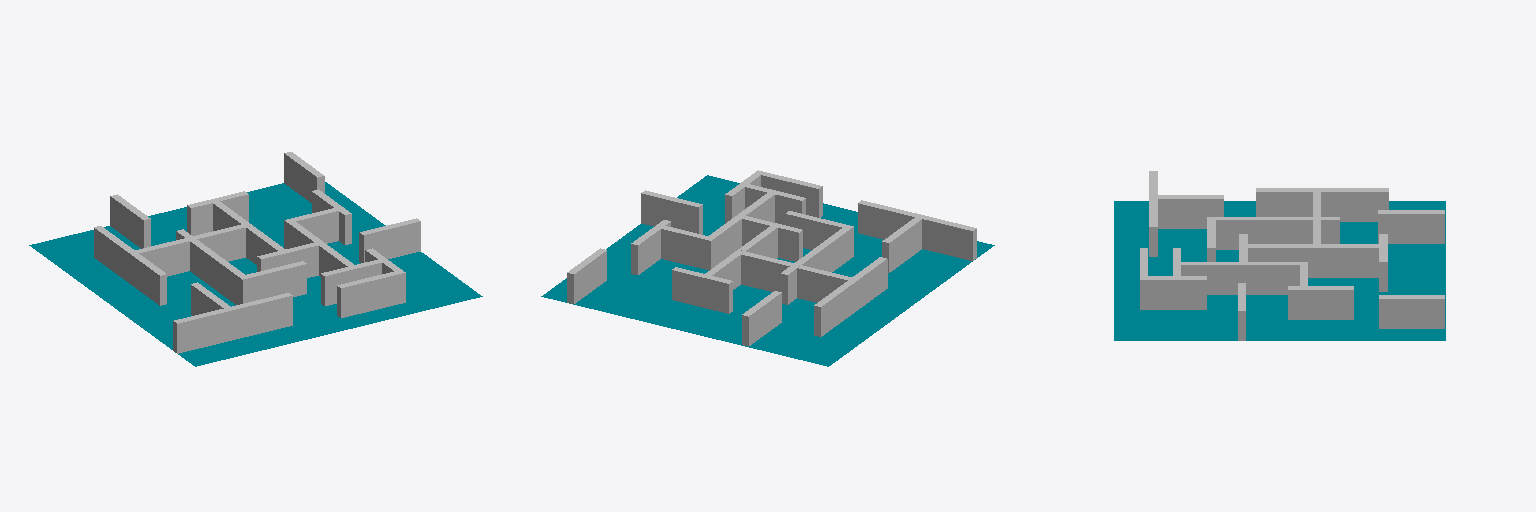
File: field0Col.obj
3 renders of one model, left to right at view 1: azimuth 30°, elevation 25°; view 2: azimuth 150°, elevation 25°; view 3: azimuth 270°, elevation 25°, orthographic.
Visible parts, largest first — view 1: Cube.023_Cube.024, Cube; view 2: Cube.023_Cube.024, Cube; view 3: Cube.023_Cube.024, Cube.
Part boxes in pixels (bbox=[...]): Cube.023_Cube.024: bbox=[94, 152, 420, 353]; Cube: bbox=[29, 182, 482, 366]; Cube.023_Cube.024: bbox=[567, 170, 976, 346]; Cube: bbox=[541, 175, 994, 366]; Cube.023_Cube.024: bbox=[1140, 171, 1444, 340]; Cube: bbox=[1114, 201, 1445, 340].
Bounding box in the file's own units: 400 × 40 × 400.